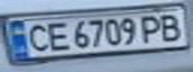0: (103, 16, 124, 46)
6: (69, 17, 90, 50)
7: (84, 17, 106, 47)
9: (118, 15, 142, 45)
B: (154, 11, 187, 43)
C: (21, 21, 51, 53)
E: (42, 19, 72, 52)
P: (136, 12, 169, 44)
